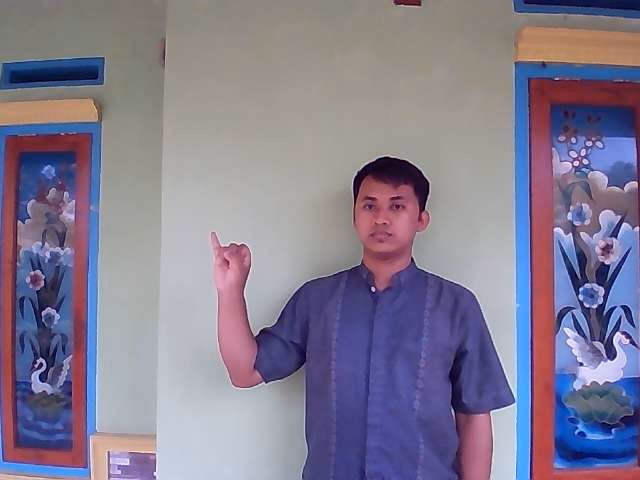I: (205, 228, 259, 303)
